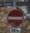No entry: (6, 6, 25, 28)
